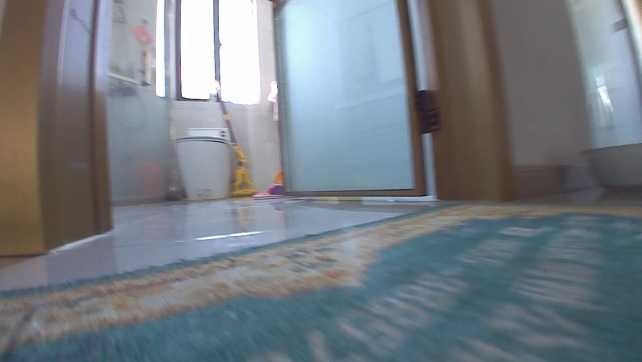blanket: (0, 193, 641, 360)
door_anno: (267, 0, 430, 200)
toilet: (171, 124, 236, 200)
